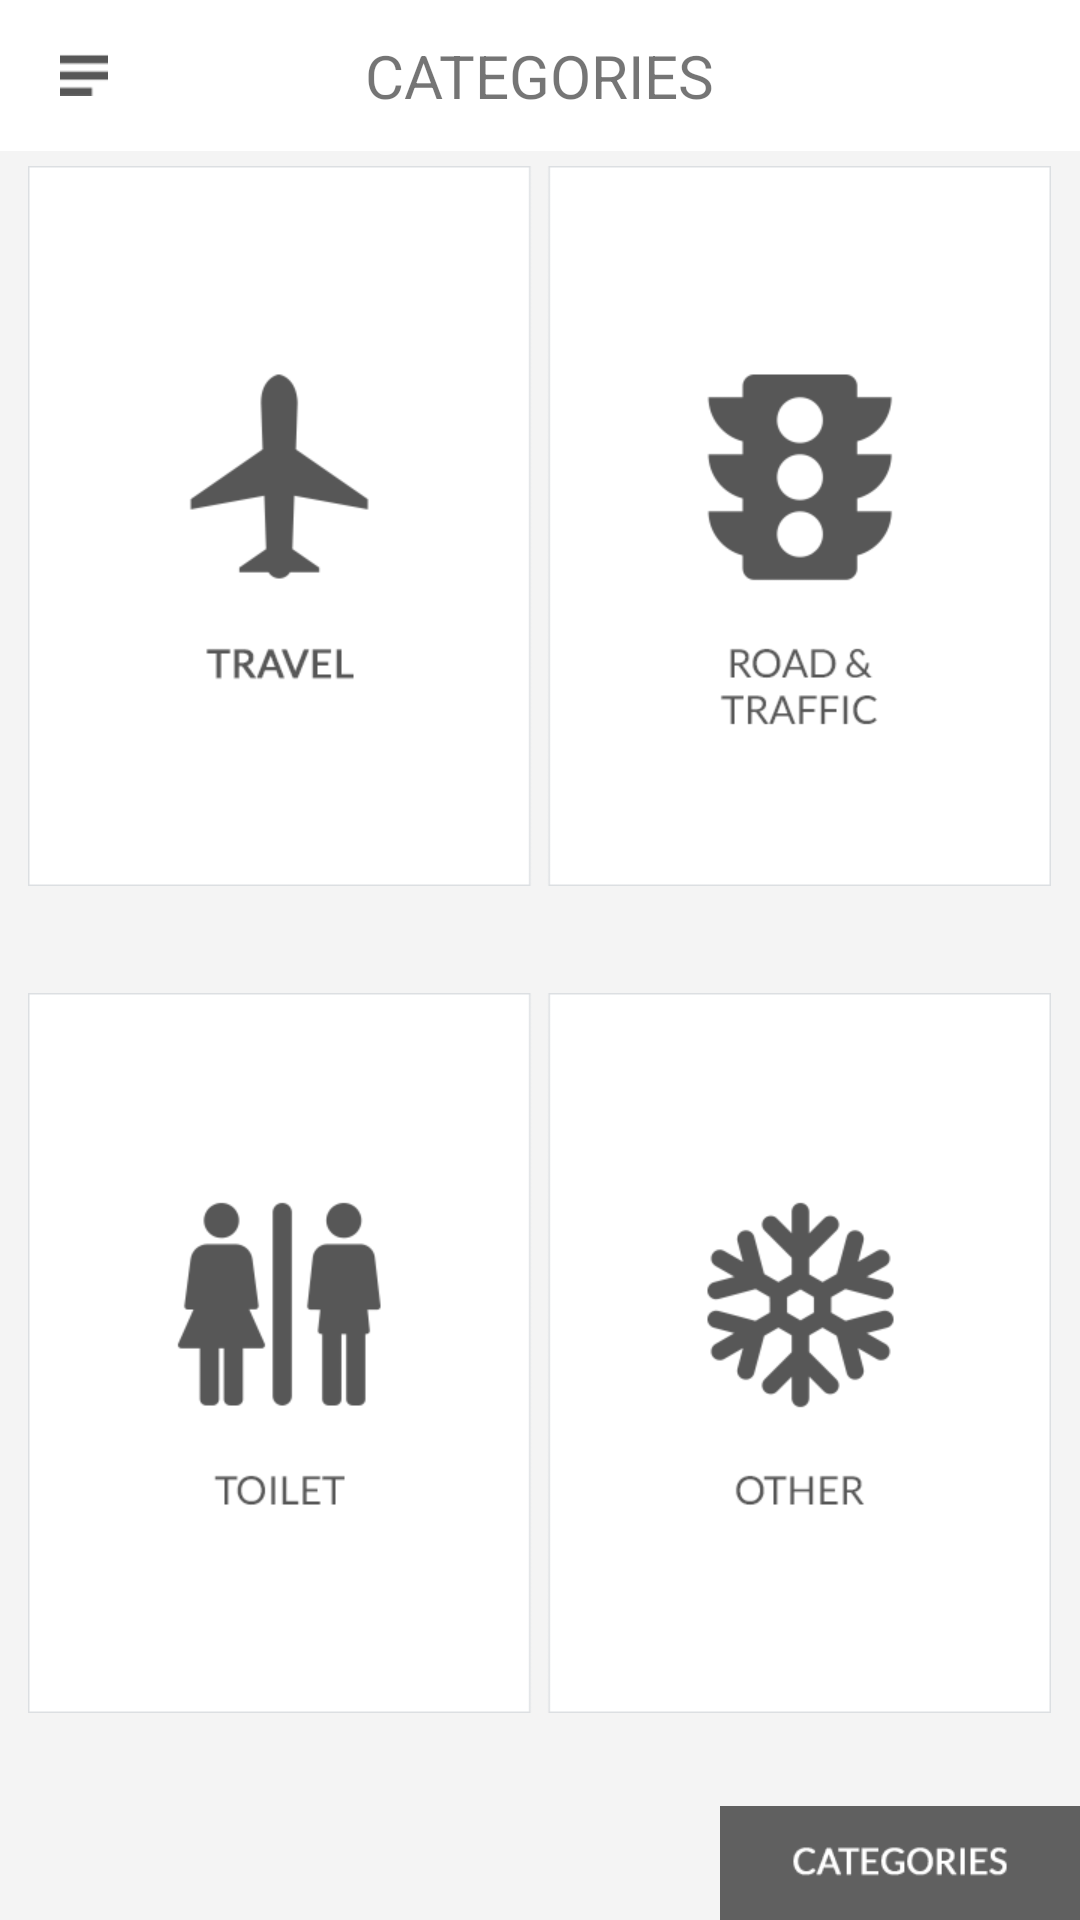

Icon click points for this 1080×1920 phone screenshot, format (x=x, y=y):
menu: (x=84, y=75)
